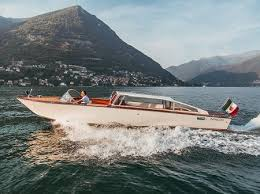boat: (17, 89, 232, 133)
